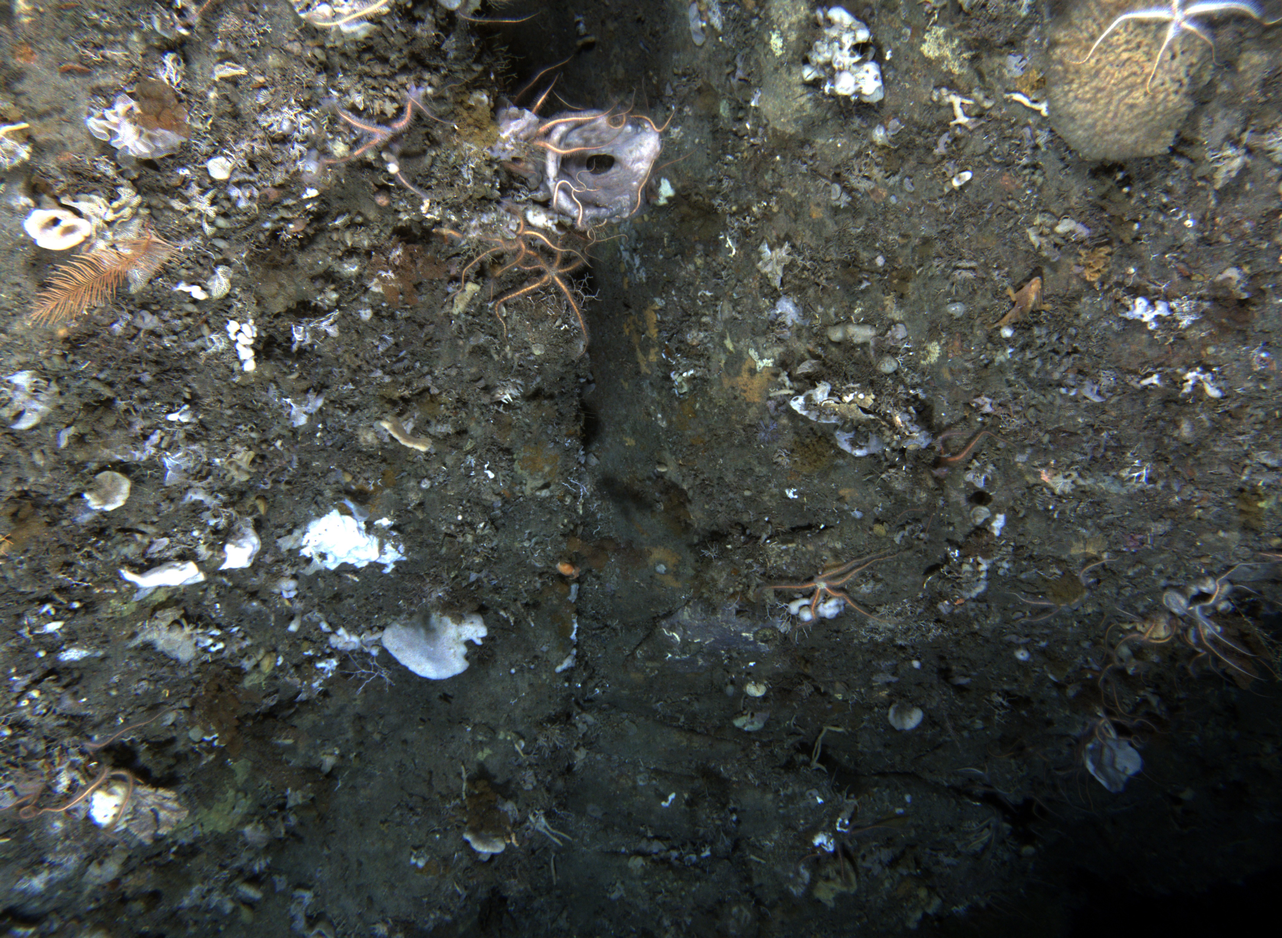Brachionichthyidae: (983, 275, 1056, 331)
